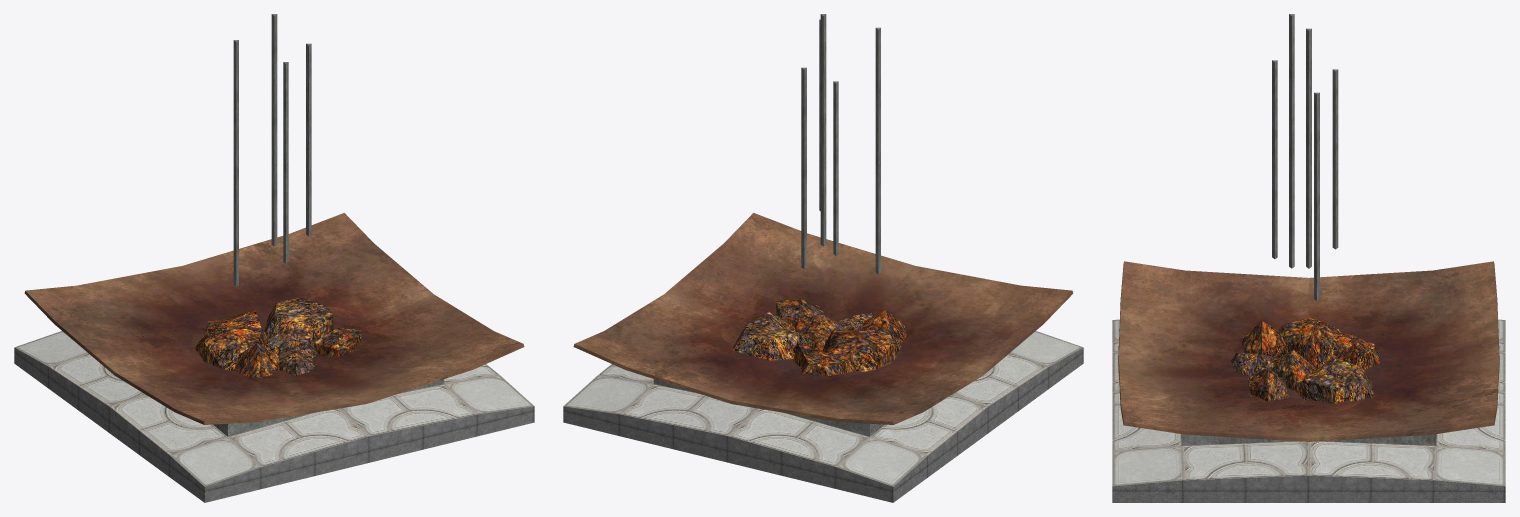
The model's file is thm_corl_fountain_brazier_square_s01_l1.fbx.
The picture shows the model from 3 angles, left to right: view 1: azimuth 30°, elevation 25°; view 2: azimuth 150°, elevation 25°; view 3: azimuth 270°, elevation 25°; orthographic projection. The views are drawn at different scales.
Visible parts, largest first — view 1: mesh_node; view 2: mesh_node; view 3: mesh_node.
Boxes of the visible parts, x1,y1,x2,y2 form: mesh_node: (14,14,534,502); mesh_node: (563,14,1083,502); mesh_node: (1112,14,1505,502).
Size of the model in its own units: 6 by 6.57 by 6.
